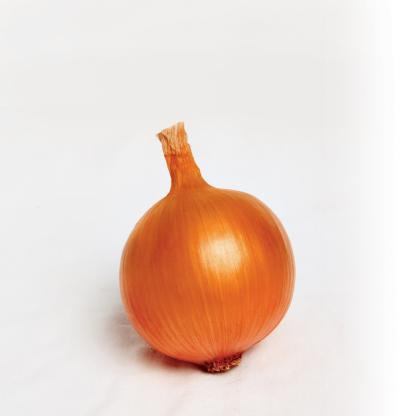onion: (124, 138, 298, 374)
